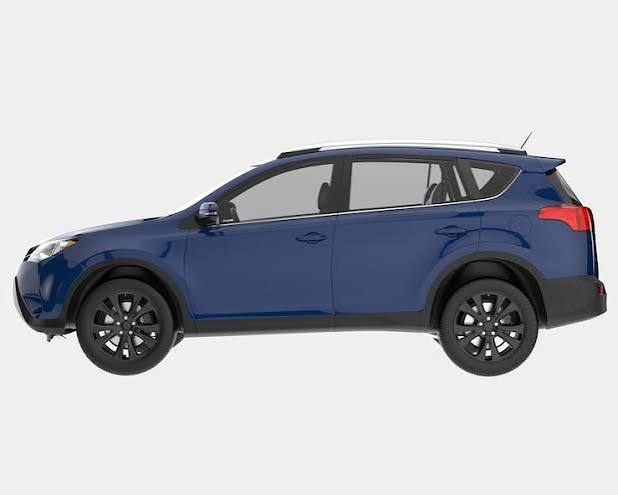car: (14, 141, 618, 389)
